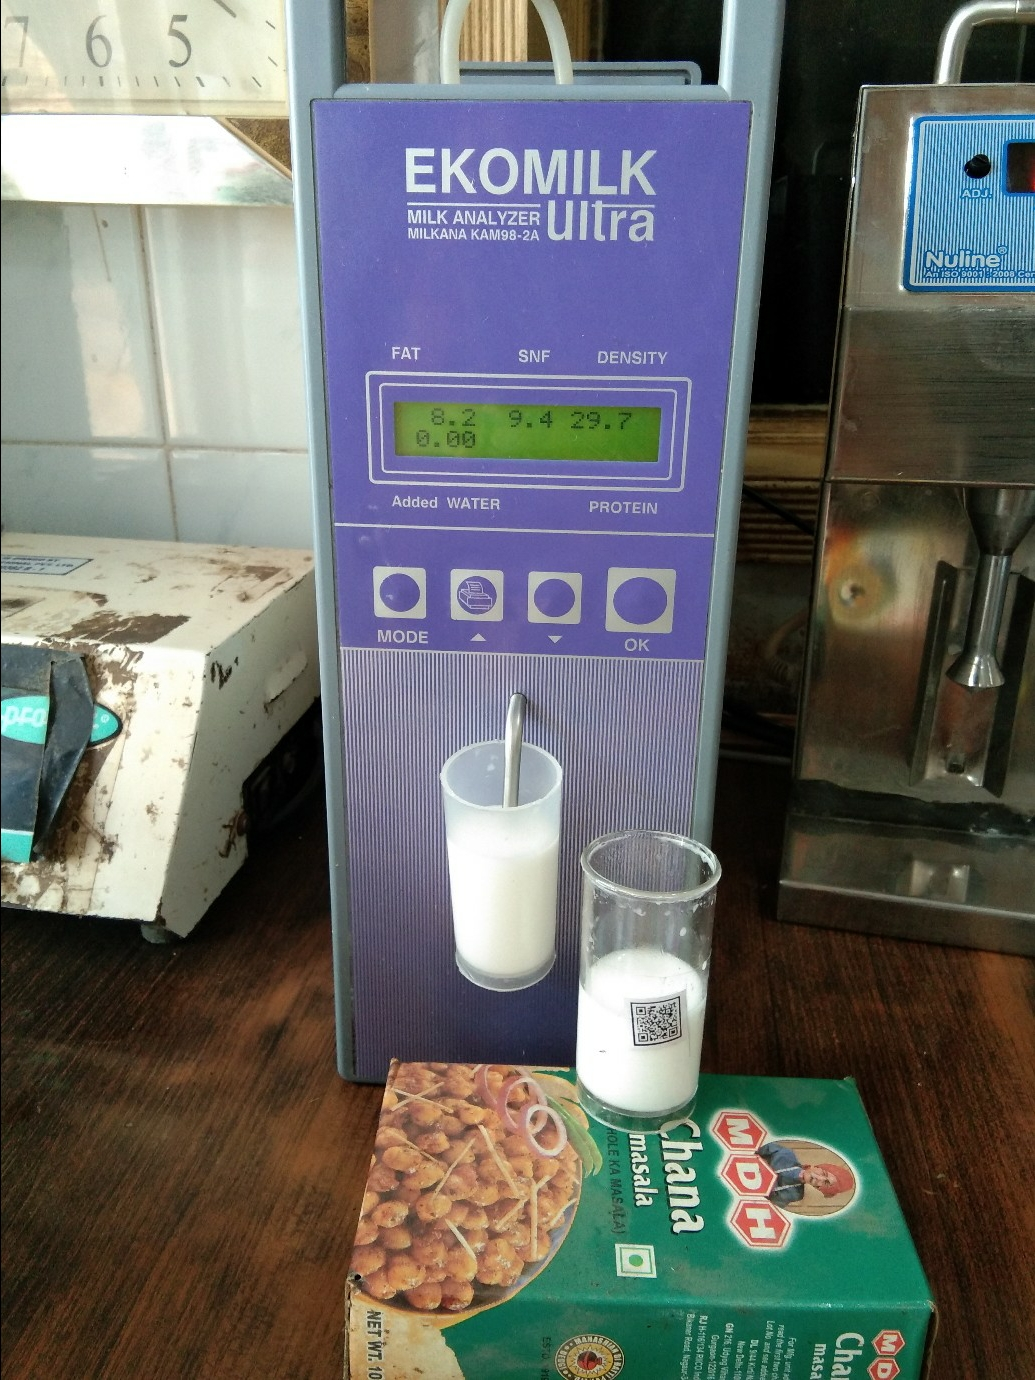lcd: (382, 385, 669, 471)
qr: (623, 996, 699, 1055)
